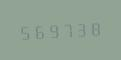eight: (88, 18, 101, 37)
five: (17, 22, 30, 41)
nine: (46, 20, 59, 40)
seven: (60, 20, 73, 39)
six: (31, 21, 44, 40)
three: (74, 19, 87, 38)
